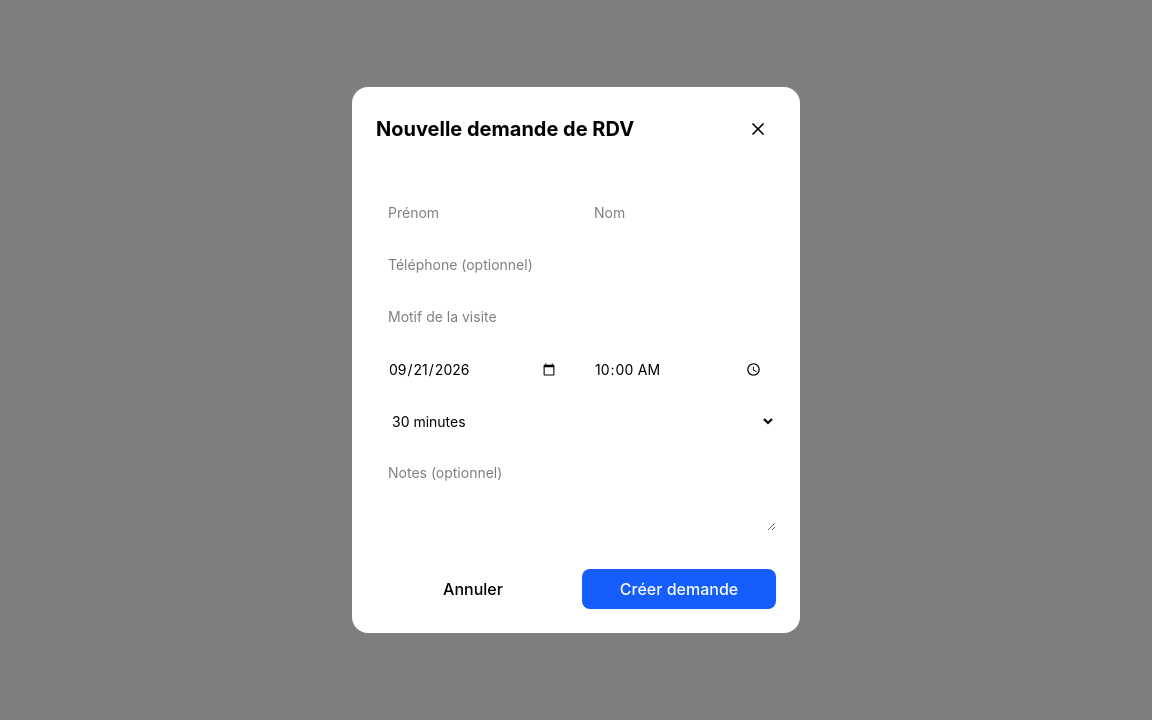
FrontdeskModal G3 mutation matrix › shows backend refusal and does not close or report success
This screenshot has width=1152, height=720.
Type "Sara" into the field with placeholder "Prénom".
click(473, 213); type("Sara")  # box x1=376 y1=195 x2=570 y2=231
Type "BENALI" into the field with placeholder "Nom".
click(679, 213); type("BENALI")  # box x1=582 y1=195 x2=776 y2=231
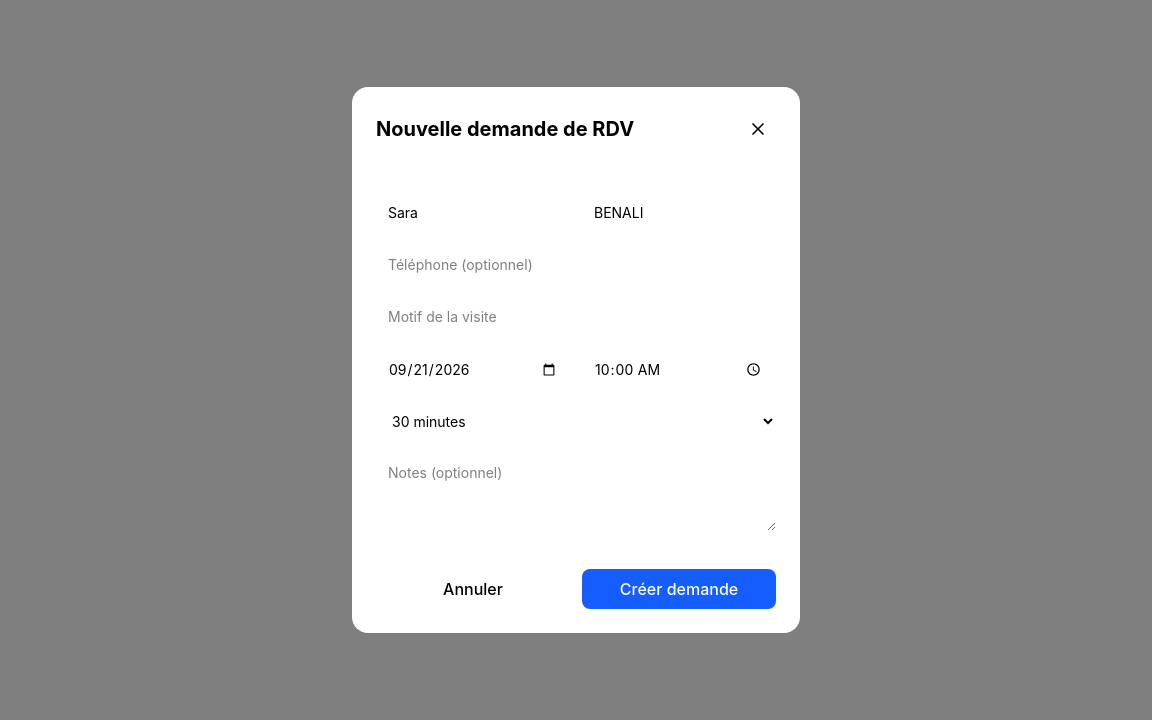
Type "0612345678" into the field with placeholder "Téléphone (optionnel)".
click(576, 265); type("0612345678")  # box x1=376 y1=247 x2=776 y2=283
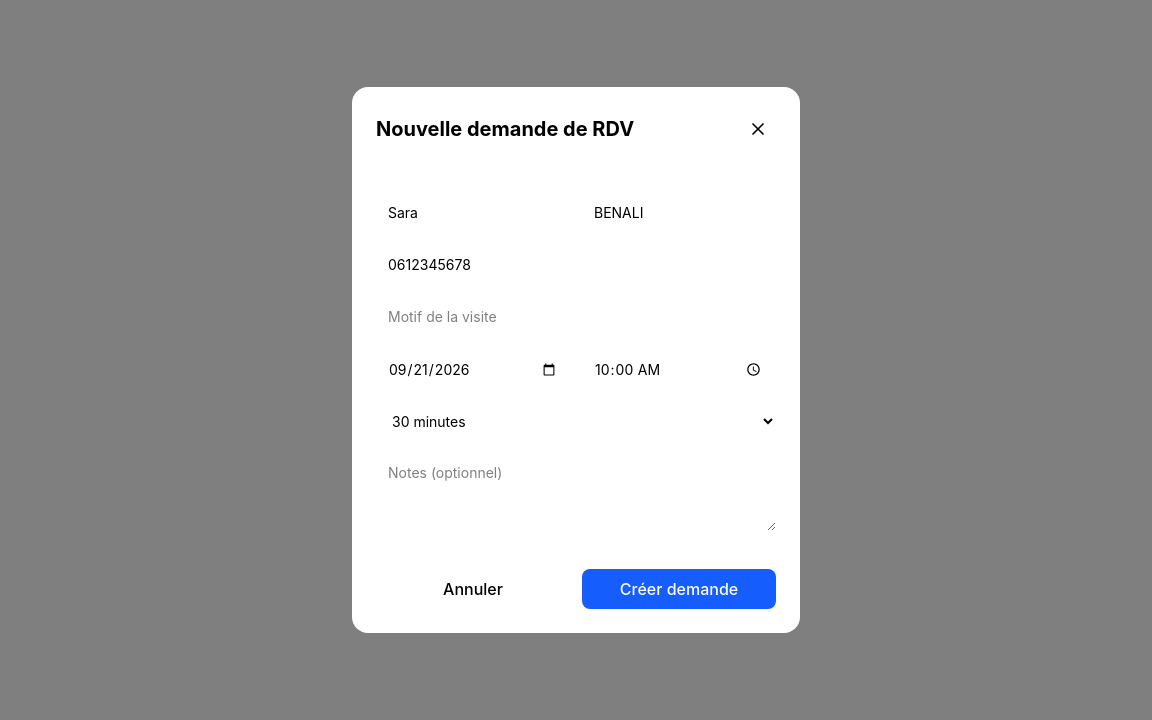
Type "Contrôle" into the field with placeholder "Motif de la visite".
click(576, 317); type("Contrôle")  # box x1=376 y1=299 x2=776 y2=335
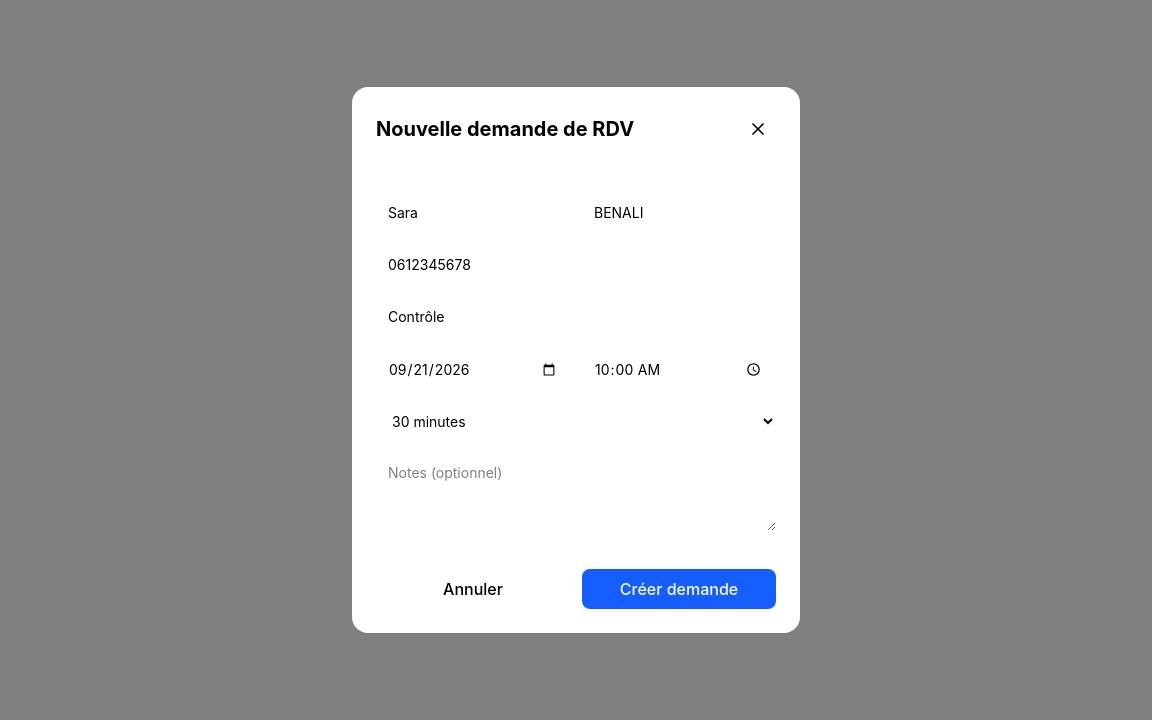
Type "Appeler avant" into the text box with placeholder "Notes (optionnel)".
click(576, 493); type("Appeler avant")  # box x1=376 y1=455 x2=776 y2=531
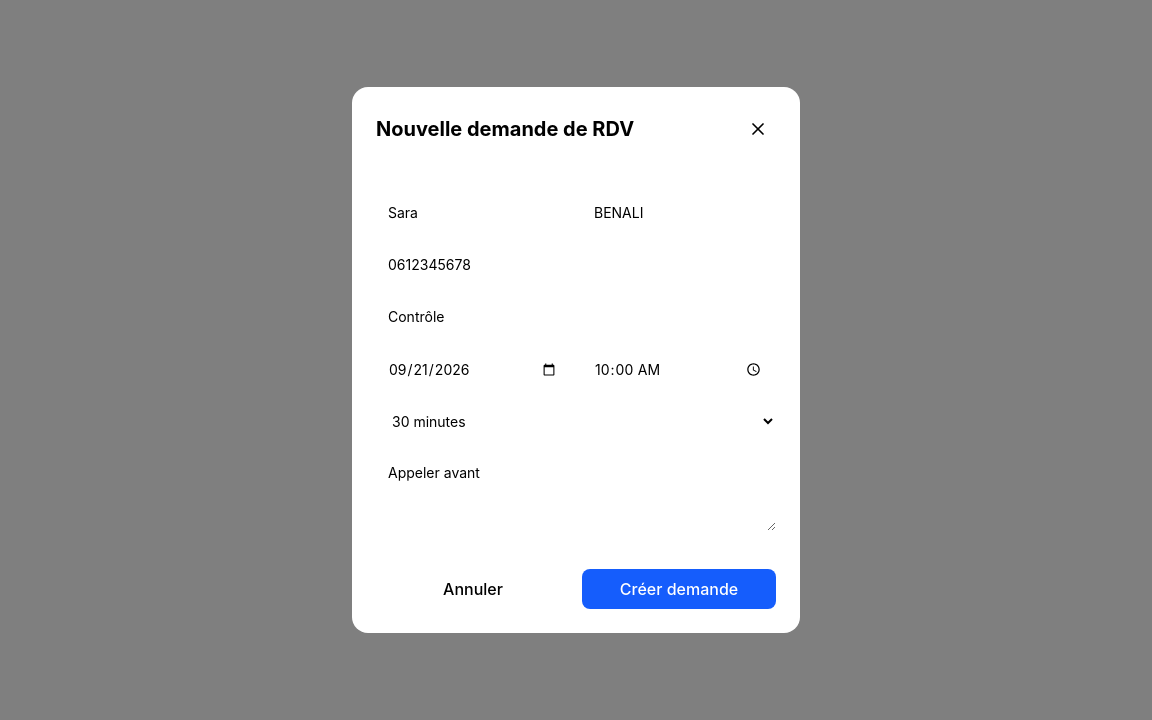
Select "45 minutes" in the dropdown at (576, 421), box x1=376 y1=404 x2=776 y2=439
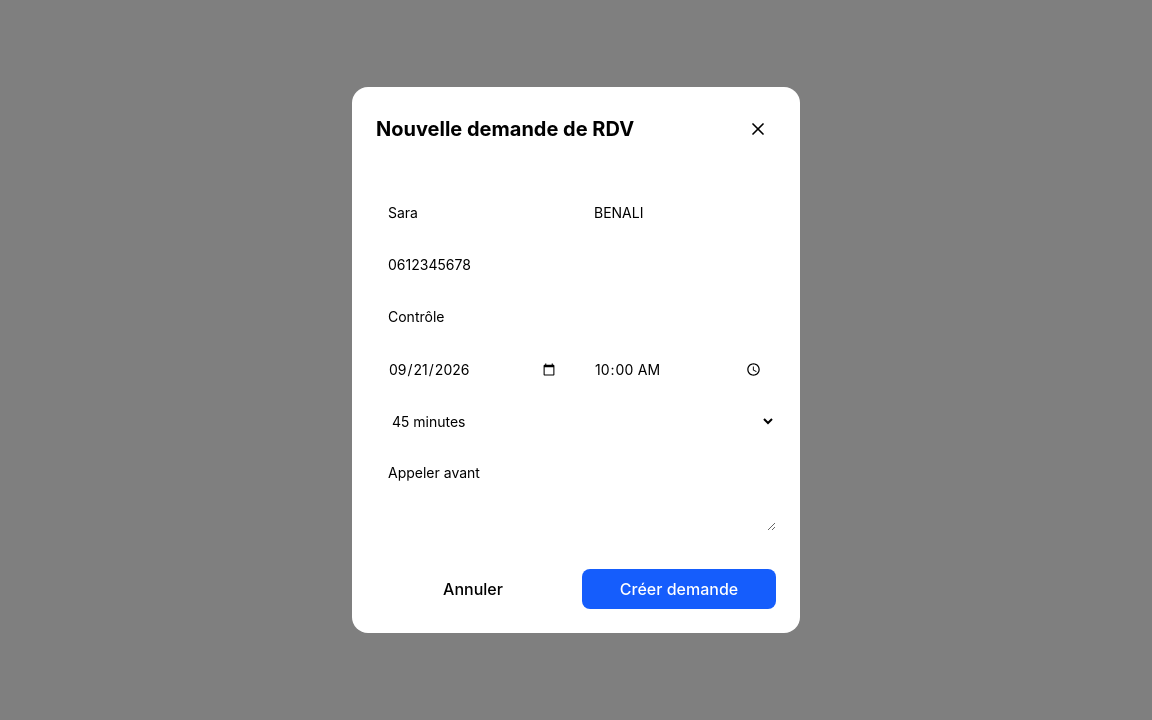
Click the button "Créer demande".
click(679, 589)  # box x1=582 y1=569 x2=776 y2=609
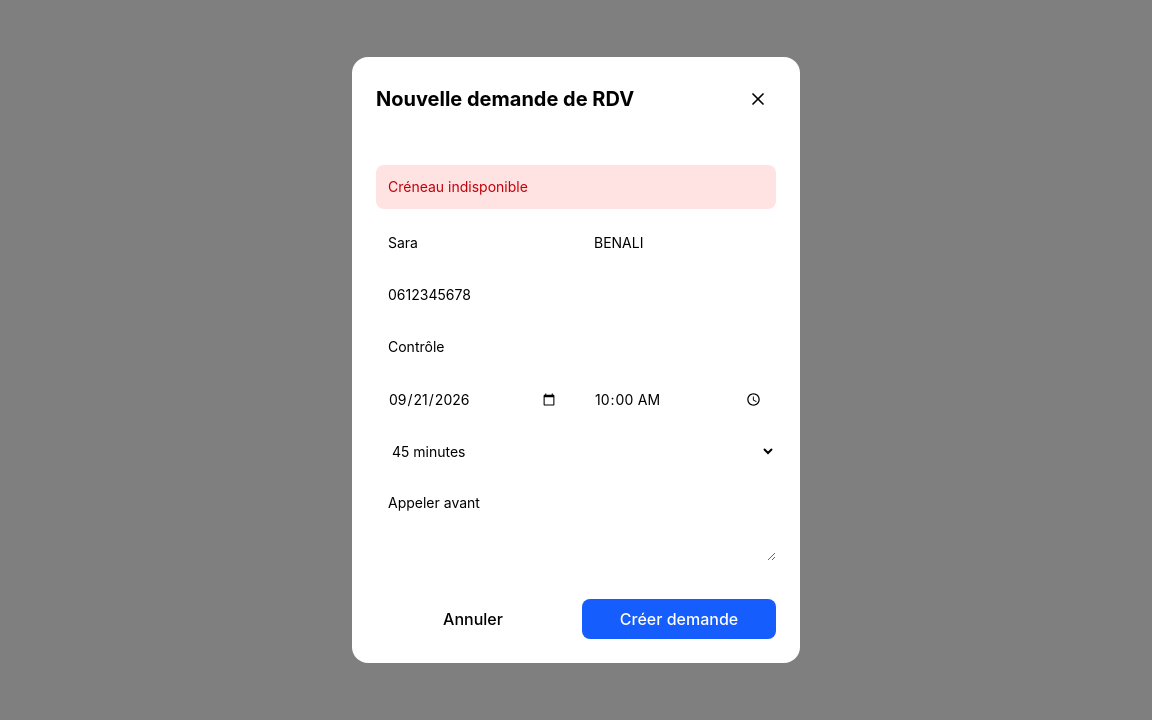
Expected: the text "Créneau indisponible" is shown, x1=376 y1=165 x2=776 y2=209
